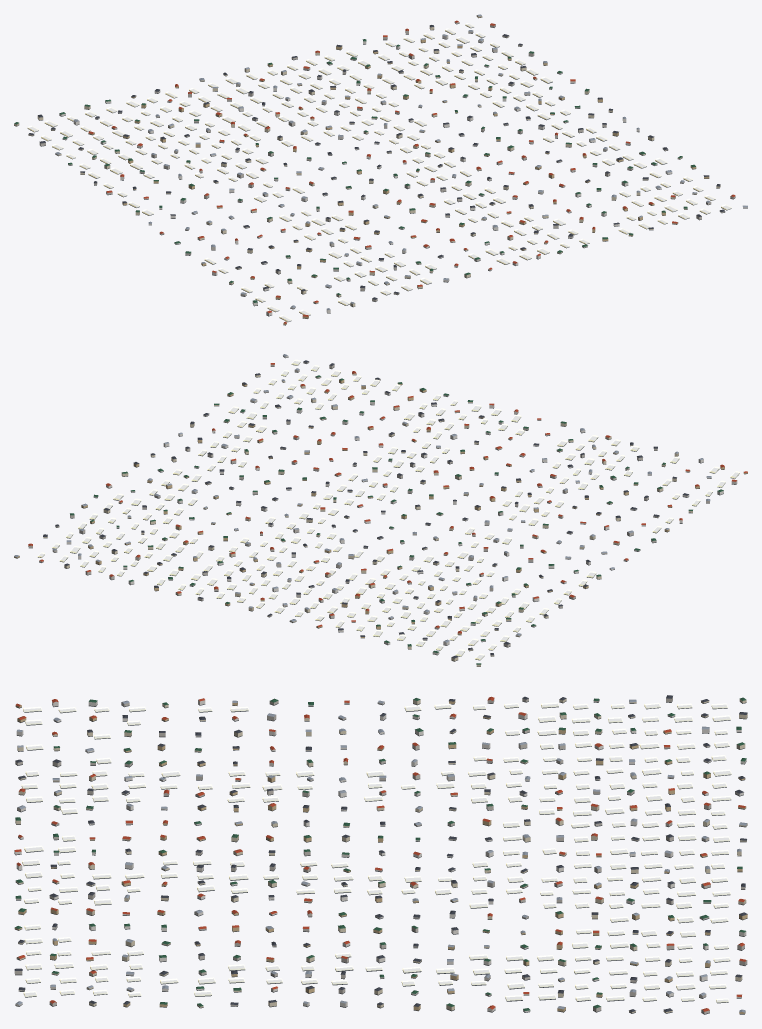
The model's file is buildings_T_E04_S03.glb.
3 renders of one model, top to bottom at view 1: azimuth 30°, elevation 25°; view 2: azimuth 150°, elevation 25°; view 3: azimuth 270°, elevation 25°, orthographic. The views are drawn at different scales.
Parts seen in each view (by area): view 1: T_E04_S03_roofs_agri_greenhouse_arch, T_E04_S03_slope_seating_foundations, T_E04_S03_walls_wall_dalat_cream_stucco, T_E04_S03_roofs_roof_slate_French_villa_hip, T_E04_S03_walls_wall_modern_warm_white, T_E04_S03_walls_wall_pastel_sand_gray, T_E04_S03_walls_wall_french_ochre_villa, T_E04_S03_roofs_roof_pine_green_hip, T_E04_S03_roofs_roof_terracotta_gable, T_E04_S03_roofs_roof_zinc_silver_gable; view 2: T_E04_S03_roofs_agri_greenhouse_arch, T_E04_S03_slope_seating_foundations, T_E04_S03_walls_wall_dalat_cream_stucco, T_E04_S03_roofs_roof_slate_French_villa_hip, T_E04_S03_walls_wall_pastel_sand_gray, T_E04_S03_walls_wall_modern_warm_white, T_E04_S03_walls_wall_french_ochre_villa, T_E04_S03_roofs_roof_pine_green_hip, T_E04_S03_roofs_roof_terracotta_gable, T_E04_S03_roofs_roof_zinc_silver_gable; view 3: T_E04_S03_roofs_agri_greenhouse_arch, T_E04_S03_slope_seating_foundations, T_E04_S03_walls_wall_dalat_cream_stucco, T_E04_S03_roofs_roof_slate_French_villa_hip, T_E04_S03_walls_wall_pastel_sand_gray, T_E04_S03_walls_wall_modern_warm_white, T_E04_S03_walls_wall_french_ochre_villa, T_E04_S03_roofs_roof_pine_green_hip, T_E04_S03_roofs_roof_terracotta_gable, T_E04_S03_roofs_roof_zinc_silver_gable.
Part boxes in pixels (x1=…): T_E04_S03_roofs_agri_greenhouse_arch: x1=27, y1=23, x2=731, y2=321; T_E04_S03_slope_seating_foundations: x1=14, y1=17, x2=747, y2=325; T_E04_S03_walls_wall_dalat_cream_stucco: x1=14, y1=26, x2=720, y2=306; T_E04_S03_roofs_roof_slate_French_villa_hip: x1=28, y1=25, x2=724, y2=299; T_E04_S03_walls_wall_modern_warm_white: x1=59, y1=22, x2=747, y2=315; T_E04_S03_walls_wall_pastel_sand_gray: x1=39, y1=24, x2=735, y2=301; T_E04_S03_walls_wall_french_ochre_villa: x1=88, y1=15, x2=709, y2=324; T_E04_S03_roofs_roof_pine_green_hip: x1=14, y1=39, x2=695, y2=302; T_E04_S03_roofs_roof_terracotta_gable: x1=88, y1=20, x2=735, y2=323; T_E04_S03_roofs_roof_zinc_silver_gable: x1=55, y1=14, x2=747, y2=310; T_E04_S03_roofs_agri_greenhouse_arch: x1=37, y1=359, x2=739, y2=659; T_E04_S03_slope_seating_foundations: x1=14, y1=356, x2=747, y2=666; T_E04_S03_walls_wall_dalat_cream_stucco: x1=43, y1=373, x2=692, y2=666; T_E04_S03_roofs_roof_slate_French_villa_hip: x1=43, y1=360, x2=688, y2=658; T_E04_S03_walls_wall_pastel_sand_gray: x1=28, y1=362, x2=709, y2=647; T_E04_S03_walls_wall_modern_warm_white: x1=39, y1=355, x2=737, y2=654; T_E04_S03_walls_wall_french_ochre_villa: x1=14, y1=379, x2=747, y2=637; T_E04_S03_roofs_roof_pine_green_hip: x1=70, y1=375, x2=723, y2=664; T_E04_S03_roofs_roof_terracotta_gable: x1=28, y1=363, x2=747, y2=633; T_E04_S03_roofs_roof_zinc_silver_gable: x1=14, y1=354, x2=711, y2=642; T_E04_S03_roofs_agri_greenhouse_arch: x1=21, y1=702, x2=731, y2=1002; T_E04_S03_slope_seating_foundations: x1=14, y1=700, x2=747, y2=1014; T_E04_S03_walls_wall_dalat_cream_stucco: x1=15, y1=698, x2=747, y2=1013; T_E04_S03_roofs_roof_slate_French_villa_hip: x1=14, y1=695, x2=747, y2=1011; T_E04_S03_walls_wall_pastel_sand_gray: x1=14, y1=697, x2=747, y2=1013; T_E04_S03_walls_wall_modern_warm_white: x1=14, y1=699, x2=746, y2=1012; T_E04_S03_walls_wall_french_ochre_villa: x1=14, y1=700, x2=747, y2=1013; T_E04_S03_roofs_roof_pine_green_hip: x1=15, y1=697, x2=746, y2=1010; T_E04_S03_roofs_roof_terracotta_gable: x1=14, y1=696, x2=745, y2=1011; T_E04_S03_roofs_roof_zinc_silver_gable: x1=15, y1=699, x2=747, y2=1012.
Size of the model in its own units: 1754 by 34.78 by 1750.
